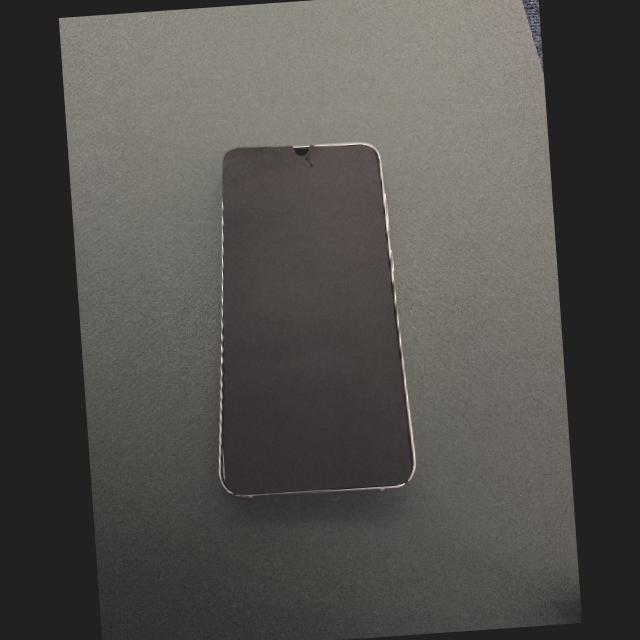lens: (299, 149, 304, 154)
phone: (219, 143, 414, 496)
